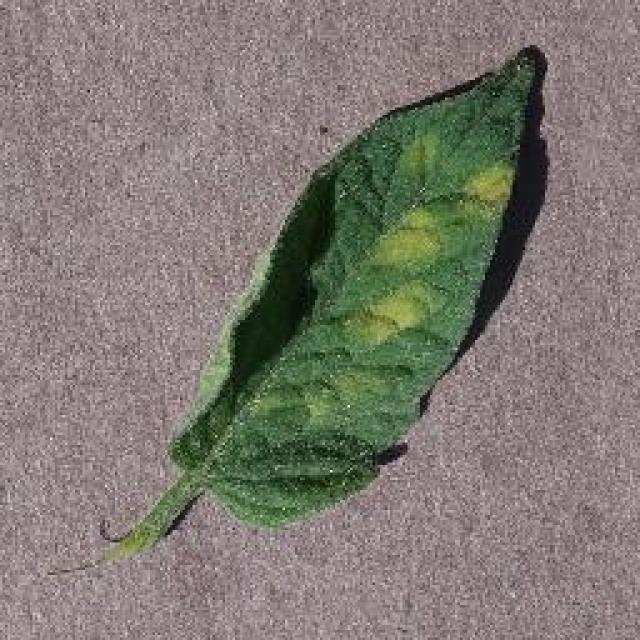Tomato___Leaf_Mold: (112, 50, 538, 555)
